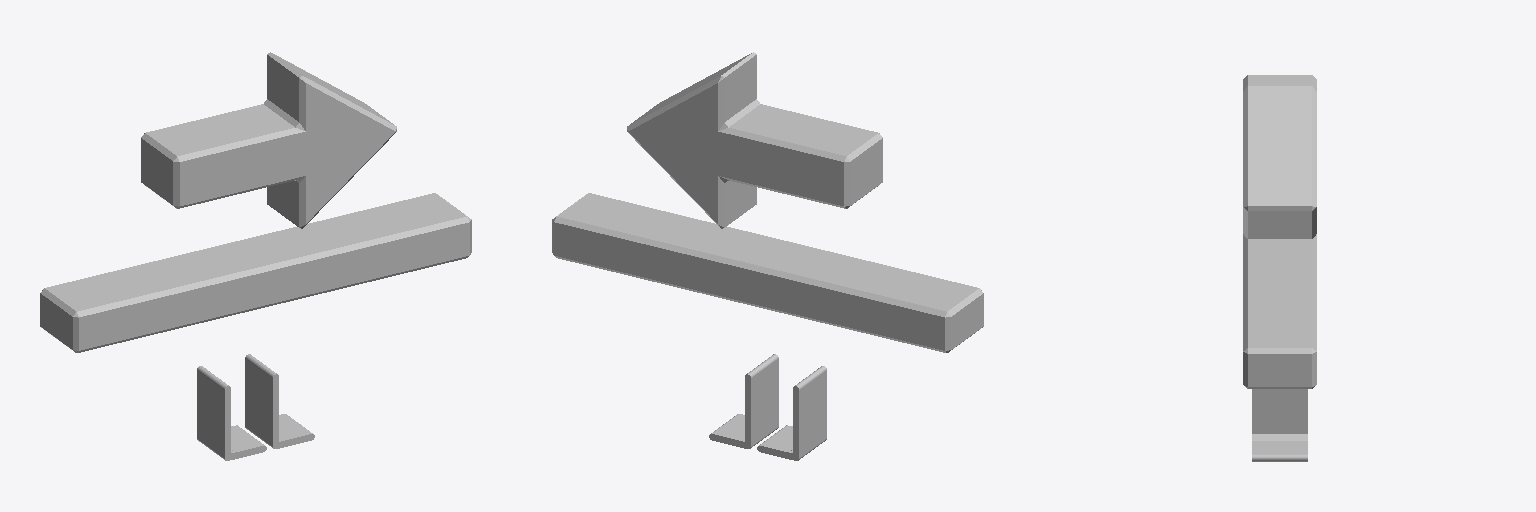
File: line_load.obj
The picture shows the model from 3 angles: view 1: azimuth 30°, elevation 25°; view 2: azimuth 150°, elevation 25°; view 3: azimuth 270°, elevation 25°; orthographic projection.
Visible parts, largest first — view 1: LineLoad; view 2: LineLoad; view 3: LineLoad.
Part boxes in pixels (bbox=[...]): LineLoad: bbox=[40, 52, 471, 460]; LineLoad: bbox=[552, 52, 983, 460]; LineLoad: bbox=[1243, 75, 1316, 461].
Bounding box in the file's own units: 1 × 0.8853 × 0.16.